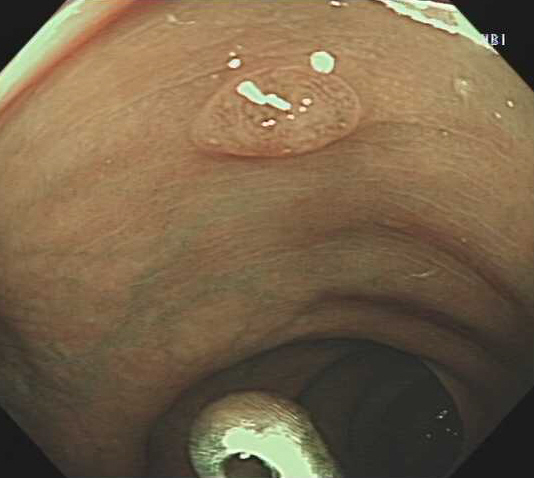adenoma: (183, 63, 363, 162)
